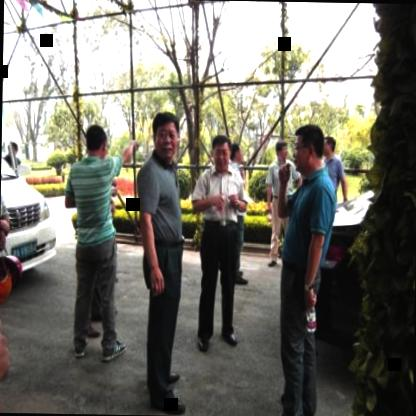head: (290, 120, 328, 180), (150, 104, 184, 164), (81, 120, 111, 166), (208, 129, 231, 169), (320, 132, 340, 162), (228, 138, 247, 167), (274, 138, 290, 164)
